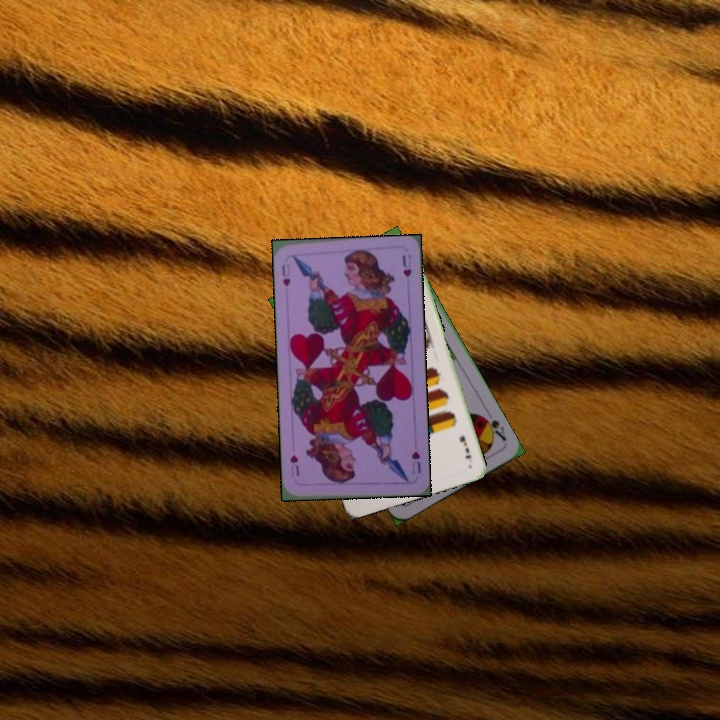E7: (455, 432, 474, 462)
HU: (408, 447, 424, 476), (278, 260, 293, 289)
SA: (478, 412, 509, 444)
